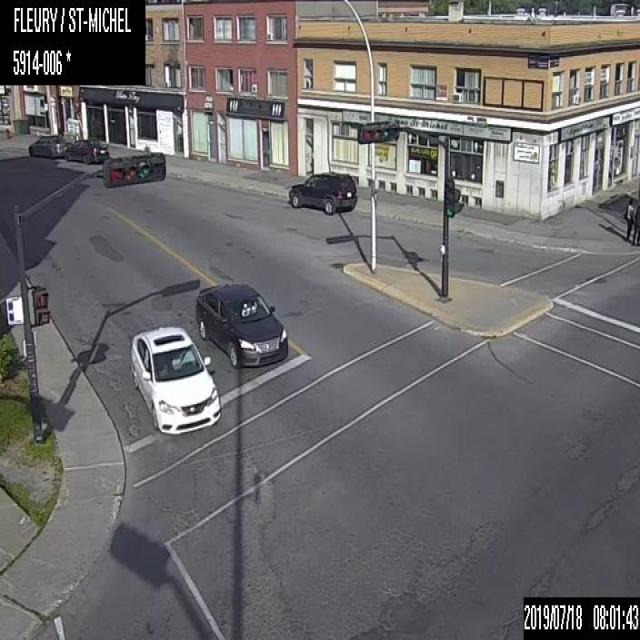pedestrian: (621, 195, 635, 245), (631, 198, 639, 248)
vehicle: (127, 321, 222, 436), (194, 279, 288, 369), (286, 168, 356, 215), (62, 135, 108, 163), (25, 131, 66, 159)
